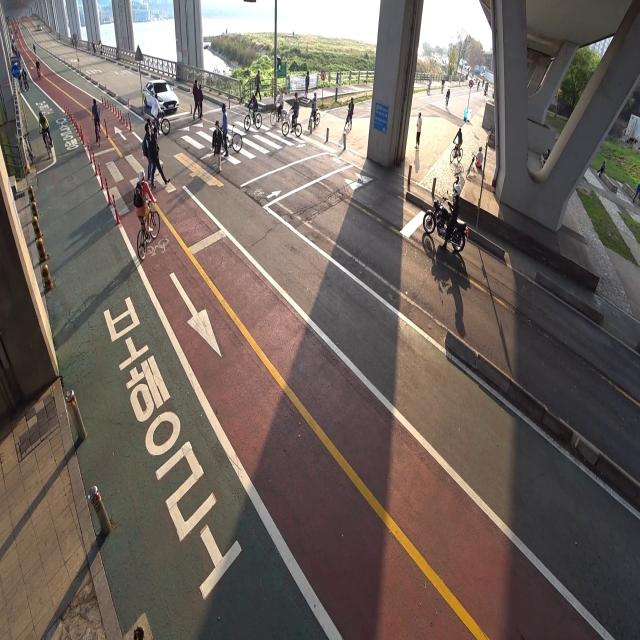Car: (140, 74, 178, 118)
Motorcycle: (422, 182, 468, 255)
